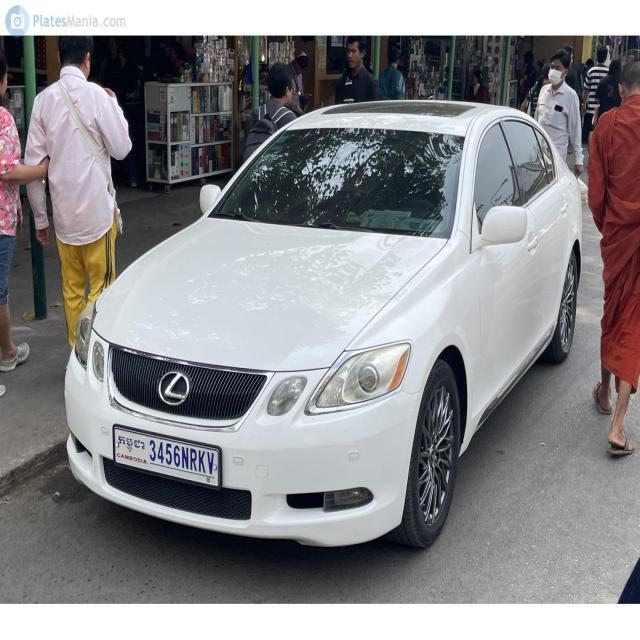Cambodia: (117, 432, 146, 454)
